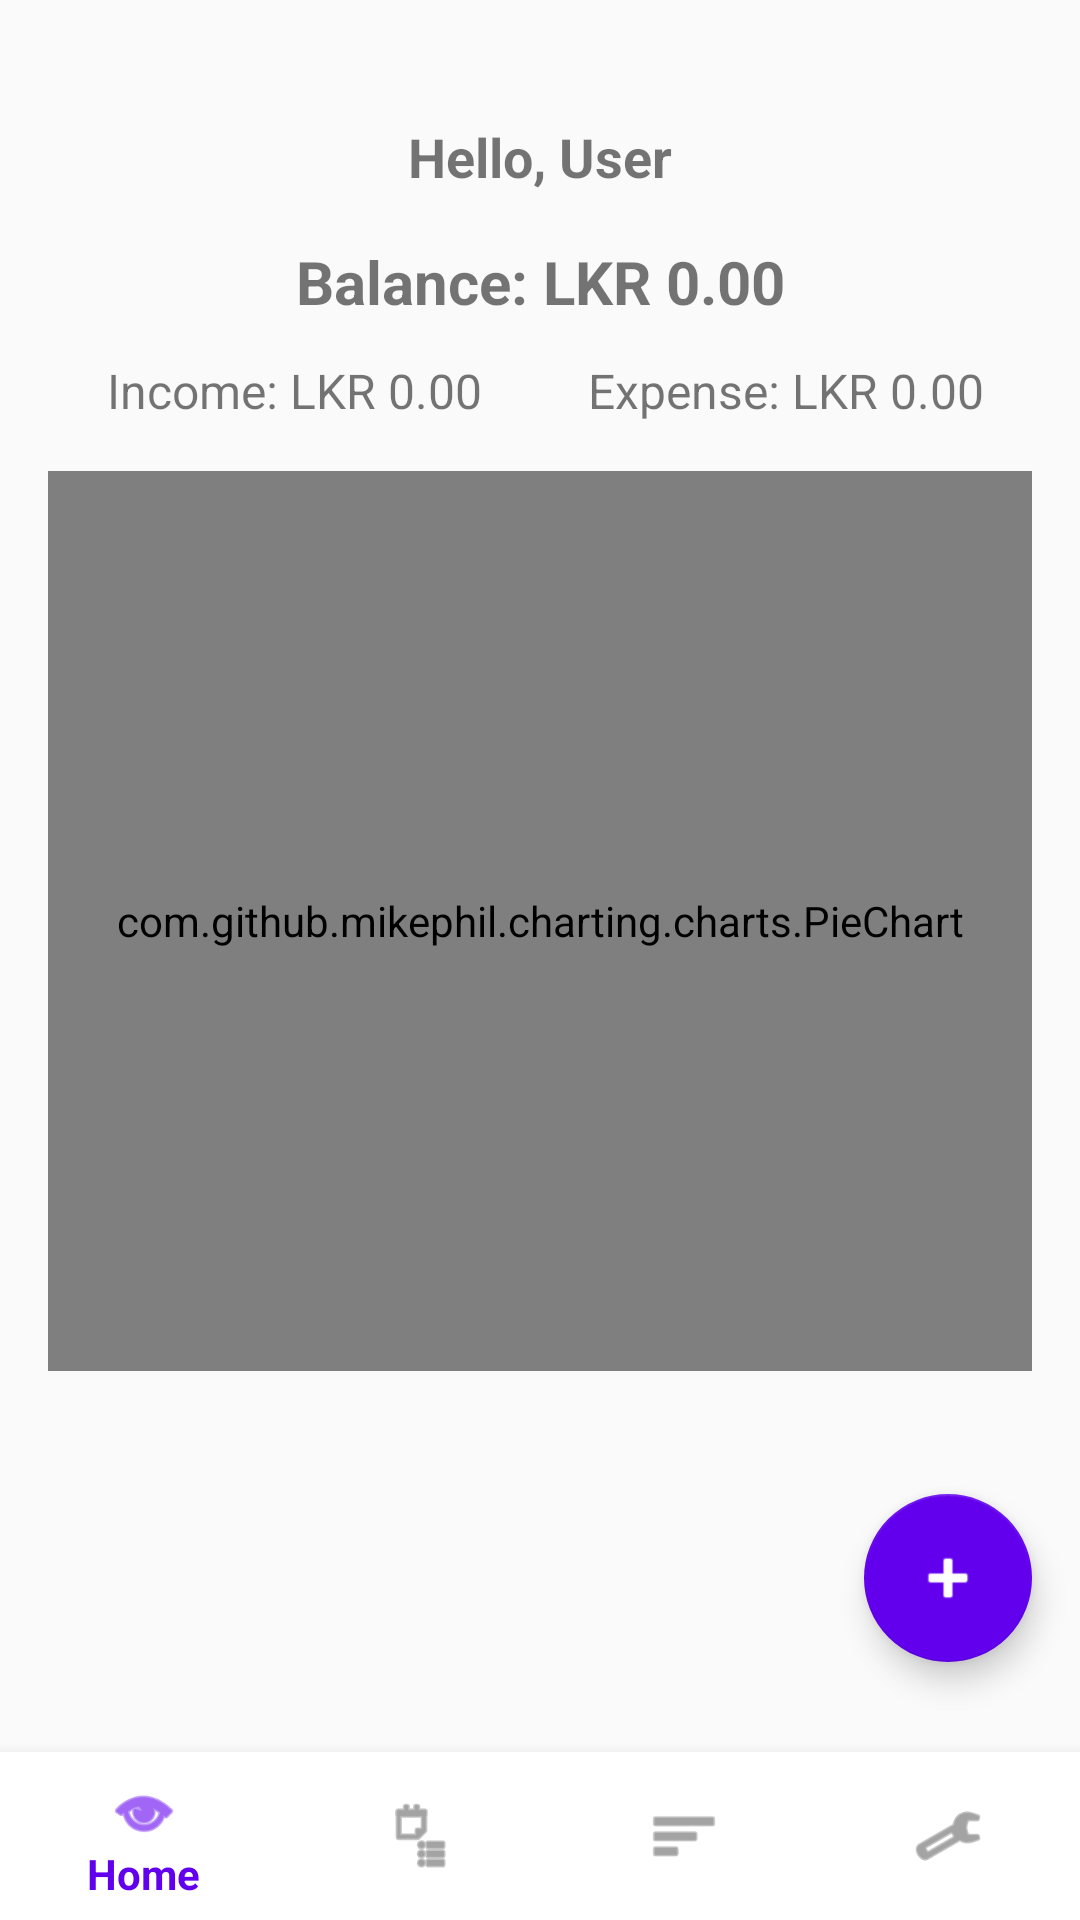

Where icons sit on this 1080 x 1920 app screen, as {"x1": x1, "y1": y1, "x2": x2, "y2": y2}:
Add Transaction: {"x1": 864, "y1": 1494, "x2": 1032, "y2": 1662}
